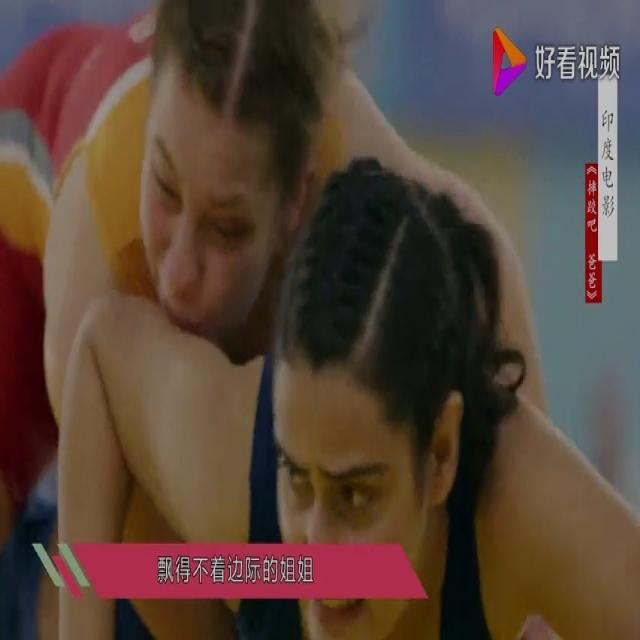fight: (1, 0, 560, 603)
